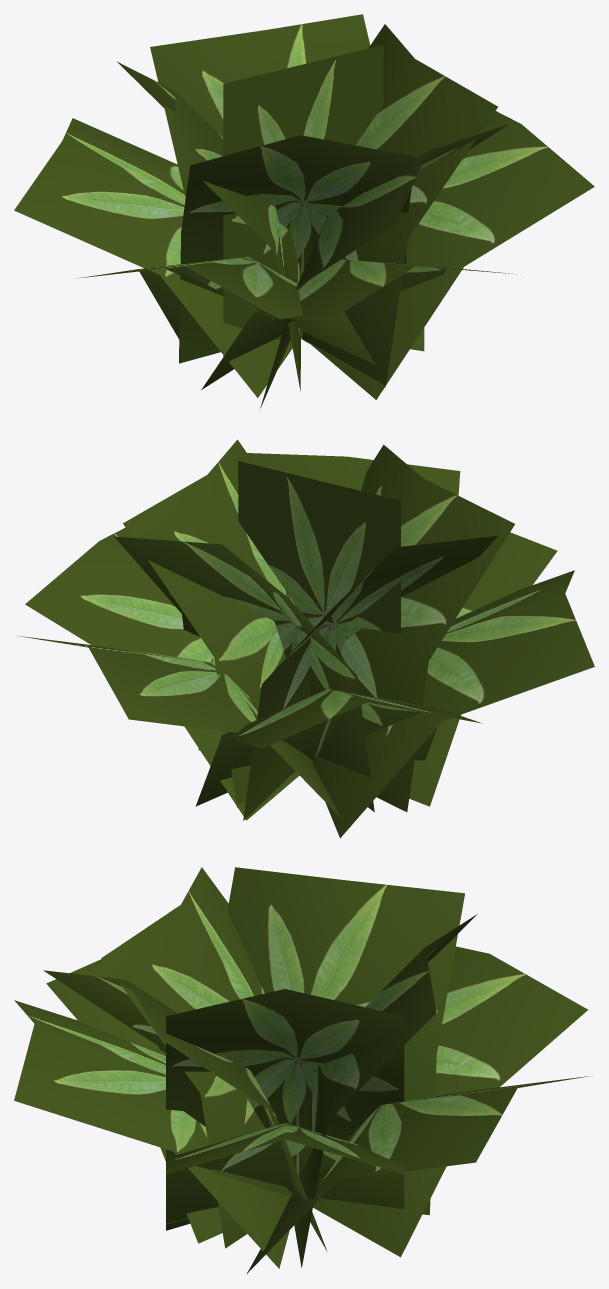
Rendered from plant8.FBX.
3 renders of one model, top to bottom at view 1: azimuth 30°, elevation 25°; view 2: azimuth 150°, elevation 25°; view 3: azimuth 270°, elevation 25°, orthographic. The views are drawn at different scales.
Visible parts, largest first — view 1: Box001; view 2: Box001; view 3: Box001.
Boxes of the visible parts, box(x1,y1,x2,y2) form: Box001: box(14, 14, 594, 409); Box001: box(16, 439, 594, 838); Box001: box(14, 867, 592, 1274).
Bounding box in the file's own units: 1.84 × 1.09 × 1.81.
